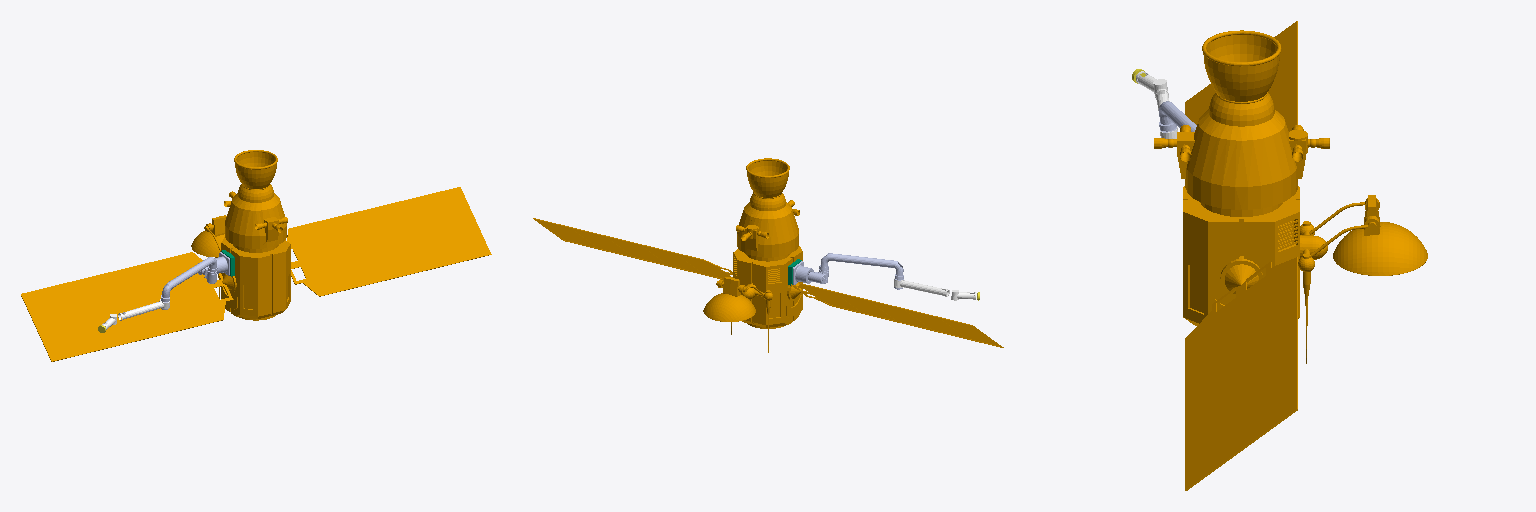
robot.urdf — artificial1__starlink_sldasm9:
<?xml version='1.0' encoding='utf-8'?>
<robot name="artificial1__starlink_sldasm9">
  <link name="base_link">
    <visual>
      <geometry>
        <mesh filename="../satellites/artificial1/satellite.stl" />
      </geometry>
    </visual>
    <collision>
      <geometry>
        <mesh filename="../satellites/artificial1/satellite.stl" />
      </geometry>
    </collision>
  </link>
  <link name="artificial1_mount" />
  <joint name="satellite_mount_fixed" type="fixed">
    <parent link="base_link" />
    <child link="artificial1_mount" />
    <origin xyz="-0.49925461956241124 0.013972663783229844 0.8680413642841108" rpy="0.0 -1.5707963267948966 0.0" />
  </joint>
  <link name="mount_support">
    <visual>
      <geometry>
        <mesh filename="../satellites/artificial1/mount_support.stl" />
      </geometry>
    </visual>
    <collision>
      <geometry>
        <mesh filename="../satellites/artificial1/mount_support.stl" />
      </geometry>
    </collision>
  </link>
  <joint name="support_fixed" type="fixed">
    <parent link="artificial1_mount" />
    <child link="mount_support" />
    <origin xyz="0 0 0" rpy="0 0 0" />
  </joint>
  <joint name="arm_adapter_fixed" type="fixed">
    <parent link="artificial1_mount" />
    <child link="starlink_space_manipulator_base_link" />
    <origin xyz="0.009087204933166504 0.008519247174263 0.16000000119209293" rpy="-1.5707963267948966 0 0.0" />
  </joint>
  <link name="starlink_space_manipulator_base_link">
    <inertial>
      <origin xyz="-0.00908719924946466 0.0225428225681148 -0.00851924929637313" rpy="0 0 0" />
      <mass value="8.66024015898073" />
      <inertia ixx="0.0960303512697639" ixy="1.65511904636803E-18" ixz="6.22039820639877E-19" iyy="0.103454922260914" iyz="-9.68471289978311E-19" izz="0.0960303512697639" />
    </inertial>
    <visual>
      <origin xyz="0 0 0" rpy="0 0 0" />
      <geometry>
        <mesh filename="../arms/starlink_sldasm9/meshes/starlink_space_manipulator_base_link.STL" />
      </geometry>
      <material name="">
        <color rgba="0.792156862745098 0.819607843137255 0.933333333333333 1" />
      </material>
    </visual>
    <collision>
      <origin xyz="0 0 0" rpy="0 0 0" />
      <geometry>
        <mesh filename="../arms/starlink_sldasm9/meshes/starlink_space_manipulator_base_link.STL" />
      </geometry>
    </collision>
  </link>
  <link name="starlink_space_manipulator_Shoulder_link_1">
    <inertial>
      <origin xyz="-0.000399471745595769 -0.100006574194712 -0.17423940484461" rpy="0 0 0" />
      <mass value="5.16309216784981" />
      <inertia ixx="0.0524543852135592" ixy="0.00348154867667969" ixz="6.96526910910627E-05" iyy="0.0306595326318824" iyz="-0.00056674368052247" izz="0.0439979075615329" />
    </inertial>
    <visual>
      <origin xyz="0 0 0" rpy="0 0 0" />
      <geometry>
        <mesh filename="../arms/starlink_sldasm9/meshes/starlink_space_manipulator_Shoulder_link_1.STL" />
      </geometry>
      <material name="">
        <color rgba="0.792156862745098 0.819607843137255 0.933333333333333 1" />
      </material>
    </visual>
    <collision>
      <origin xyz="0 0 0" rpy="0 0 0" />
      <geometry>
        <mesh filename="../arms/starlink_sldasm9/meshes/starlink_space_manipulator_Shoulder_link_1.STL" />
      </geometry>
    </collision>
  </link>
  <joint name="starlink_space_manipulator_Shoulder_link_1_yaw" type="revolute">
    <origin xyz="-0.0090872 -0.065 -0.0085192" rpy="1.5708 -0.15574 3.1416" />
    <parent link="starlink_space_manipulator_base_link" />
    <child link="starlink_space_manipulator_Shoulder_link_1" />
    <axis xyz="0 0 -1" />
    <limit lower="-3.14" upper="3.14" effort="0" velocity="0" />
  </joint>
  <link name="starlink_space_manipulator_Upper_arm_Link_1">
    <inertial>
      <origin xyz="0.402106341472203 -0.696465272634528 -0.170177523085579" rpy="0 0 0" />
      <mass value="5.05309869040685" />
      <inertia ixx="0.388719013133801" ixy="0.210155896498943" ixz="9.30829370680679E-08" iyy="0.146049057575642" iyz="1.71830458004218E-07" izz="0.500677708275447" />
    </inertial>
    <visual>
      <origin xyz="0 0 0" rpy="0 0 0" />
      <geometry>
        <mesh filename="../arms/starlink_sldasm9/meshes/starlink_space_manipulator_Upper_arm_Link_1.STL" />
      </geometry>
      <material name="">
        <color rgba="0.792156862745098 0.819607843137255 0.933333333333333 1" />
      </material>
    </visual>
    <collision>
      <origin xyz="0 0 0" rpy="0 0 0" />
      <geometry>
        <mesh filename="../arms/starlink_sldasm9/meshes/starlink_space_manipulator_Upper_arm_Link_1.STL" />
      </geometry>
    </collision>
  </link>
  <joint name="starlink_space_manipulator_Upper_arm_Link_1_roll" type="revolute">
    <origin xyz="0 -0.2 -0.18" rpy="1.5708 0.90646 1.5708" />
    <parent link="starlink_space_manipulator_Shoulder_link_1" />
    <child link="starlink_space_manipulator_Upper_arm_Link_1" />
    <axis xyz="0 0 -1" />
    <limit lower="-2" upper="1.5" effort="0" velocity="0" />
  </joint>
  <link name="starlink_space_manipulator_Mid_arm_Link_1">
    <inertial>
      <origin xyz="-0.000406052776441013 0.317722269561105 0.0155331755135703" rpy="0 0 0" />
      <mass value="1.57635531881168" />
      <inertia ixx="0.133610363618846" ixy="5.33750993405138E-05" ixz="-3.60473795202962E-09" iyy="0.00502119434334708" iyz="-2.514275749911E-05" izz="0.134586018527477" />
    </inertial>
    <visual>
      <origin xyz="0 0 0" rpy="0 0 0" />
      <geometry>
        <mesh filename="../arms/starlink_sldasm9/meshes/starlink_space_manipulator_Mid_arm_Link_1.STL" />
      </geometry>
      <material name="">
        <color rgba="1 1 1 1" />
      </material>
    </visual>
    <collision>
      <origin xyz="0 0 0" rpy="0 0 0" />
      <geometry>
        <mesh filename="../arms/starlink_sldasm9/meshes/starlink_space_manipulator_Mid_arm_Link_1.STL" />
      </geometry>
    </collision>
  </link>
  <joint name="starlink_space_manipulator_Mid_arm_Link_1_roll" type="revolute">
    <origin xyz="0.599999999999673 -1.03923048454122 0" rpy="-3.14159265358979 0 0.828250280535091" />
    <parent link="starlink_space_manipulator_Upper_arm_Link_1" />
    <child link="starlink_space_manipulator_Mid_arm_Link_1" />
    <axis xyz="0 0 -1" />
    <limit lower="-3.14" upper="3.14" effort="0" velocity="0" />
  </joint>
  <link name="starlink_space_manipulator_Upper_wrist_Link_1">
    <inertial>
      <origin xyz="-0.000400003664721815 -0.201565878030355 -0.00216705855311664" rpy="0 0 0" />
      <mass value="0.994770641034713" />
      <inertia ixx="0.00165409639029414" ixy="-7.59103925411082E-06" ixz="-3.17403155320863E-06" iyy="0.00201437937768072" iyz="2.63246464091218E-06" izz="0.00159638838344539" />
    </inertial>
    <visual>
      <origin xyz="0 0 0" rpy="0 0 0" />
      <geometry>
        <mesh filename="../arms/starlink_sldasm9/meshes/starlink_space_manipulator_Upper_wrist_Link_1.STL" />
      </geometry>
      <material name="">
        <color rgba="0.792156862745098 0.819607843137255 0.933333333333333 1" />
      </material>
    </visual>
    <collision>
      <origin xyz="0 0 0" rpy="0 0 0" />
      <geometry>
        <mesh filename="../arms/starlink_sldasm9/meshes/starlink_space_manipulator_Upper_wrist_Link_1.STL" />
      </geometry>
    </collision>
  </link>
  <joint name="starlink_space_manipulator_Upper_wrist_Link_1_yaw" type="revolute">
    <origin xyz="-0.00050155183276912 0.686793643713439 0.0155010481432086" rpy="0 -0.0763876794035917 3.14159265358979" />
    <parent link="starlink_space_manipulator_Mid_arm_Link_1" />
    <child link="starlink_space_manipulator_Upper_wrist_Link_1" />
    <axis xyz="0 -1 0" />
    <limit lower="-3.14" upper="3.14" effort="0" velocity="0" />
  </joint>
  <link name="starlink_space_manipulator_Upper_wrist_Link_2">
    <inertial>
      <origin xyz="8.45304168883843E-08 0.0848318719623631 -0.00515657391755576" rpy="0 0 0" />
      <mass value="1.03716823037577" />
      <inertia ixx="0.0100970561498589" ixy="1.32295633551837E-09" ixz="-9.43675929999229E-09" iyy="0.00222325407426665" iyz="-2.08772874866187E-06" izz="0.0105840577017538" />
    </inertial>
    <visual>
      <origin xyz="0 0 0" rpy="0 0 0" />
      <geometry>
        <mesh filename="../arms/starlink_sldasm9/meshes/starlink_space_manipulator_Upper_wrist_Link_2.STL" />
      </geometry>
      <material name="">
        <color rgba="1 1 1 1" />
      </material>
    </visual>
    <collision>
      <origin xyz="0 0 0" rpy="0 0 0" />
      <geometry>
        <mesh filename="../arms/starlink_sldasm9/meshes/starlink_space_manipulator_Upper_wrist_Link_2.STL" />
      </geometry>
    </collision>
  </link>
  <joint name="starlink_space_manipulator_Upper_wrist_Link_2_roll" type="revolute">
    <origin xyz="0 -0.30020635628656 0" rpy="-0.0158640776811277 -0.0317448426184613 -2.67805461574742" />
    <parent link="starlink_space_manipulator_Upper_wrist_Link_1" />
    <child link="starlink_space_manipulator_Upper_wrist_Link_2" />
    <axis xyz="0 0 1" />
    <limit lower="-2.5" upper="1.8" effort="0" velocity="0" />
  </joint>
  <link name="starlink__space_manipulator_2F-Body_Link">
    </link>
  <joint name="starlink__space_manipulator_2F-Body_Link_yaw" type="revolute">
    <origin xyz="0 0.34845 -0.0053813" rpy="-3.1416 0.93592 0" />
    <parent link="starlink_space_manipulator_Upper_wrist_Link_2" />
    <child link="starlink__space_manipulator_2F-Body_Link" />
    <axis xyz="0 -1 0" />
    <limit lower="-3.14" upper="3.14" effort="0" velocity="0" />
  </joint>
  <link name="angular_hand">
    <visual>
      <geometry>
        <mesh filename="../arms/starlink_sldasm9/meshes/hand_2finger.STL" scale="2 2 2" />
      </geometry>
    </visual>
    <collision>
      <geometry>
        <mesh filename="../arms/starlink_sldasm9/meshes/hand_2finger.STL" scale="2 2 2" />
      </geometry>
    </collision>
  </link>
  <joint name="angular_hand_fixed" type="fixed">
    <parent link="starlink__space_manipulator_2F-Body_Link" />
    <child link="angular_hand" />
    <origin xyz="0 -0.036 0" rpy="-1.5707963267948966 0 0" />
  </joint>
  <link name="angular_adapter">
    <visual>
      <geometry>
        <mesh filename="../arms/starlink_sldasm9/meshes/angular_adapter.stl" />
      </geometry>
    </visual>
    <collision>
      <geometry>
        <mesh filename="../arms/starlink_sldasm9/meshes/angular_adapter.stl" />
      </geometry>
    </collision>
  </link>
  <joint name="angular_adapter_fixed" type="fixed">
    <parent link="starlink__space_manipulator_2F-Body_Link" />
    <child link="angular_adapter" />
    <origin xyz="0 -0.0005 0" rpy="1.5707963267948966 0 0" />
  </joint>
  <link name="angular_finger_1">
    <visual>
      <geometry>
        <mesh filename="../arms/starlink_sldasm9/meshes/finger_proximal.STL" scale="2 2 2" />
      </geometry>
    </visual>
    <collision>
      <geometry>
        <mesh filename="../arms/starlink_sldasm9/meshes/finger_proximal.STL" scale="2 2 2" />
      </geometry>
    </collision>
  </link>
  <link name="angular_tip_1">
    <visual>
      <geometry>
        <mesh filename="../arms/starlink_sldasm9/meshes/finger_distal.STL" scale="2 2 2" />
      </geometry>
    </visual>
    <collision>
      <geometry>
        <mesh filename="../arms/starlink_sldasm9/meshes/finger_distal.STL" scale="2 2 2" />
      </geometry>
    </collision>
  </link>
  <joint name="angular_joint_1" type="revolute">
    <parent link="angular_hand" />
    <child link="angular_finger_1" />
    <axis xyz="0 0 1" />
    <origin xyz="-0.005 0.0619 -0.22964" rpy="-1.570796327 .649262481663582 1.5707963267948966" />
    <limit lower="0" upper="1.51" effort="2" velocity="1" />
  </joint>
  <joint name="angular_joint_tip_1" type="revolute">
    <parent link="angular_finger_1" />
    <child link="angular_tip_1" />
    <axis xyz="0 0 1" />
    <origin xyz="0.088 -0.006 0.0" rpy="0 0 0" />
    <limit lower="0" upper="2" effort="2" velocity="1" />
  </joint>
  <link name="angular_finger_2">
    <visual>
      <geometry>
        <mesh filename="../arms/starlink_sldasm9/meshes/finger_proximal.STL" scale="2 2 2" />
      </geometry>
    </visual>
    <collision>
      <geometry>
        <mesh filename="../arms/starlink_sldasm9/meshes/finger_proximal.STL" scale="2 2 2" />
      </geometry>
    </collision>
  </link>
  <link name="angular_tip_2">
    <visual>
      <geometry>
        <mesh filename="../arms/starlink_sldasm9/meshes/finger_distal.STL" scale="2 2 2" />
      </geometry>
    </visual>
    <collision>
      <geometry>
        <mesh filename="../arms/starlink_sldasm9/meshes/finger_distal.STL" scale="2 2 2" />
      </geometry>
    </collision>
  </link>
  <joint name="angular_joint_2" type="revolute">
    <parent link="angular_hand" />
    <child link="angular_finger_2" />
    <axis xyz="0 0 1" />
    <origin xyz="-0.005 -0.0619 -0.22964" rpy="-1.570796327 .649262481663582 -1.5707963267948966" />
    <limit lower="0" upper="1.51" effort="2" velocity="1" />
  </joint>
  <joint name="angular_joint_tip_2" type="revolute">
    <parent link="angular_finger_2" />
    <child link="angular_tip_2" />
    <axis xyz="0 0 1" />
    <origin xyz="0.088 -0.006 0.0" rpy="0 0 0" />
    <limit lower="0" upper="2" effort="2" velocity="1" />
  </joint>
  <link name="angular_tcp" />
  <joint name="angular_tcp_fixed" type="fixed">
    <parent link="angular_hand" />
    <child link="angular_tcp" />
    <origin xyz="-0.005 0 -0.34" rpy="3.141592653589793 0 0" />
  </joint>
</robot>

--- Facts derived from the render (not from the file) ---
The picture shows the robot from 3 angles, left to right: view 1: azimuth 30°, elevation 25°; view 2: azimuth 150°, elevation 25°; view 3: azimuth 270°, elevation 25°; orthographic projection.
Model artificial1__starlink_sldasm9 with 17 links and 16 joints (10 revolute, 6 fixed), rooted at base_link, posed every joint at zero.
Visible links, largest first — view 1: base_link, starlink_space_manipulator_Upper_arm_Link_1; view 2: base_link, starlink_space_manipulator_Upper_arm_Link_1; view 3: base_link, starlink_space_manipulator_Upper_arm_Link_1.
Link boxes in pixels (box(x1,y1,x2,y2)): base_link: box(21, 150, 491, 361); starlink_space_manipulator_Upper_arm_Link_1: box(161, 257, 216, 309); base_link: box(533, 158, 1003, 352); starlink_space_manipulator_Upper_arm_Link_1: box(821, 253, 903, 289); base_link: box(1154, 21, 1427, 490); starlink_space_manipulator_Upper_arm_Link_1: box(1159, 101, 1196, 147).
Size in the robot's own frame: 8 by 2.58 by 2.94 metres.
Meshes: 12 distinct files referenced, 8 mesh visuals loaded (8 binary STL); not drawn: 6 (reference not matched to a file when rendering).
